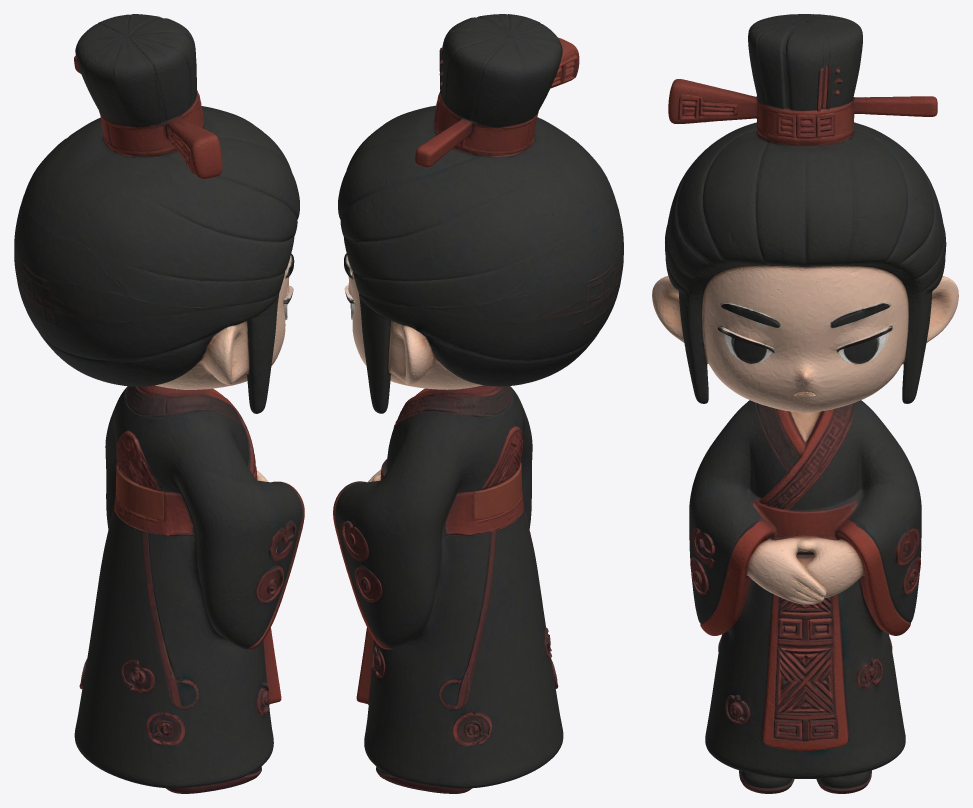
3 views of the same model, side by side, from view 1: azimuth 30°, elevation 25°; view 2: azimuth 150°, elevation 25°; view 3: azimuth 270°, elevation 25° (orthographic). The views are drawn at different scales.
Parts seen in each view (by area): view 1: tripo_node_0bb93493-f13c-433b-a972-3fe1d231b49a; view 2: tripo_node_0bb93493-f13c-433b-a972-3fe1d231b49a; view 3: tripo_node_0bb93493-f13c-433b-a972-3fe1d231b49a.
Part boxes in pixels (<box>): tripo_node_0bb93493-f13c-433b-a972-3fe1d231b49a: <box>14,14,304,793</box>; tripo_node_0bb93493-f13c-433b-a972-3fe1d231b49a: <box>333,14,623,793</box>; tripo_node_0bb93493-f13c-433b-a972-3fe1d231b49a: <box>652,14,958,793</box>.
Bounding box in the file's own units: 0.3501 × 1 × 0.3822.
Materials: 1 (1 with a texture image).
